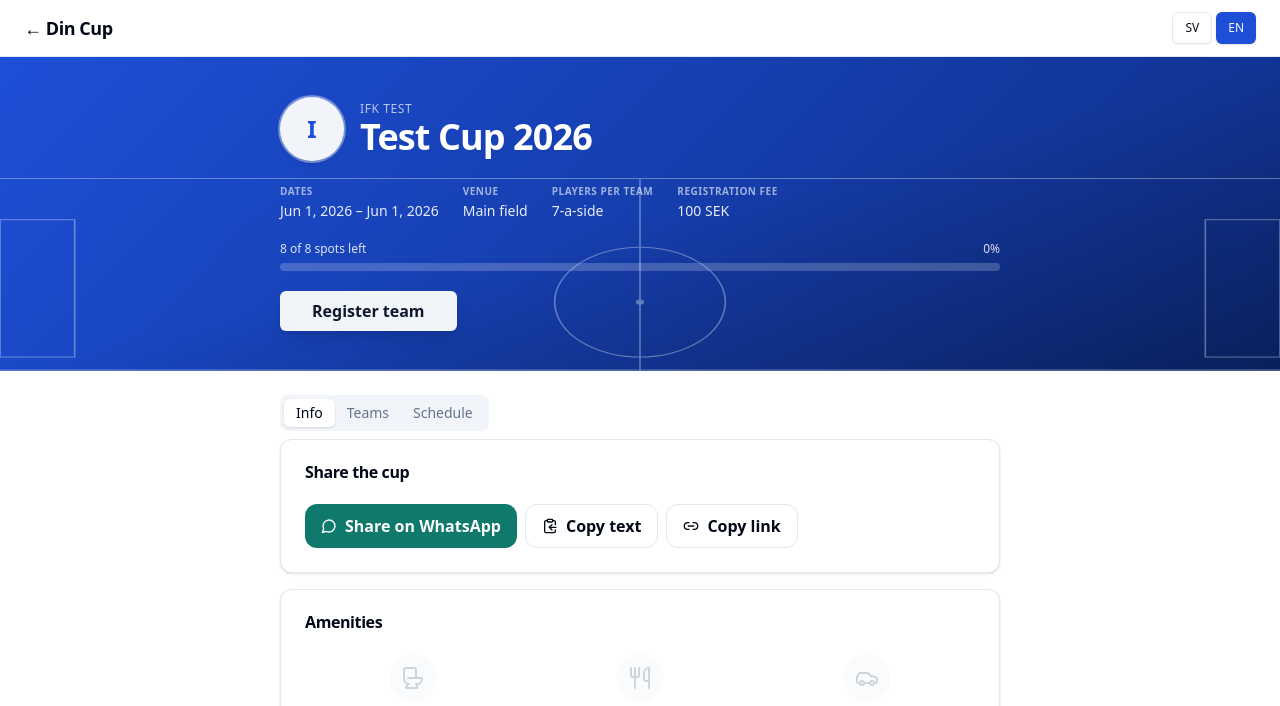
Test: PublicCupLandingPage › renders all three tabs and switches the panel when Teams is clicked
Click the tab "Teams" at (368, 413), box [335,399,401,427]
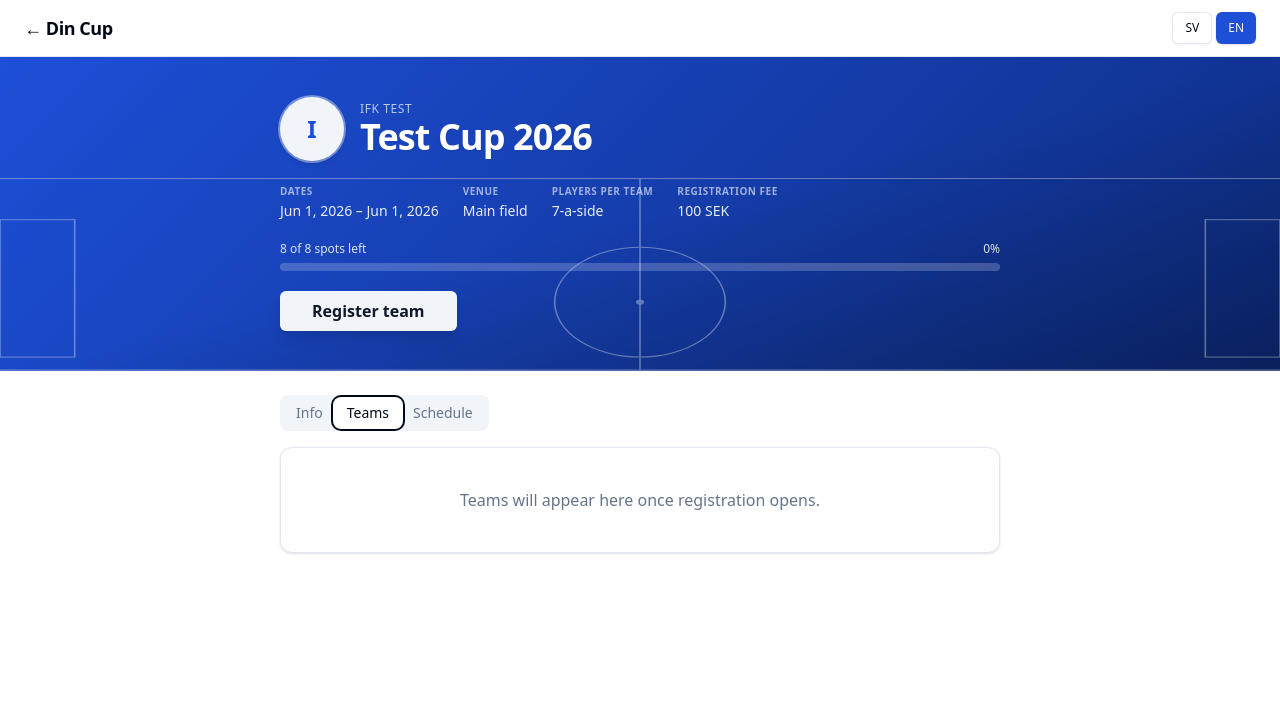
Check: the text "Teams will appear here once registration opens." is shown, box [460,489,820,511]
